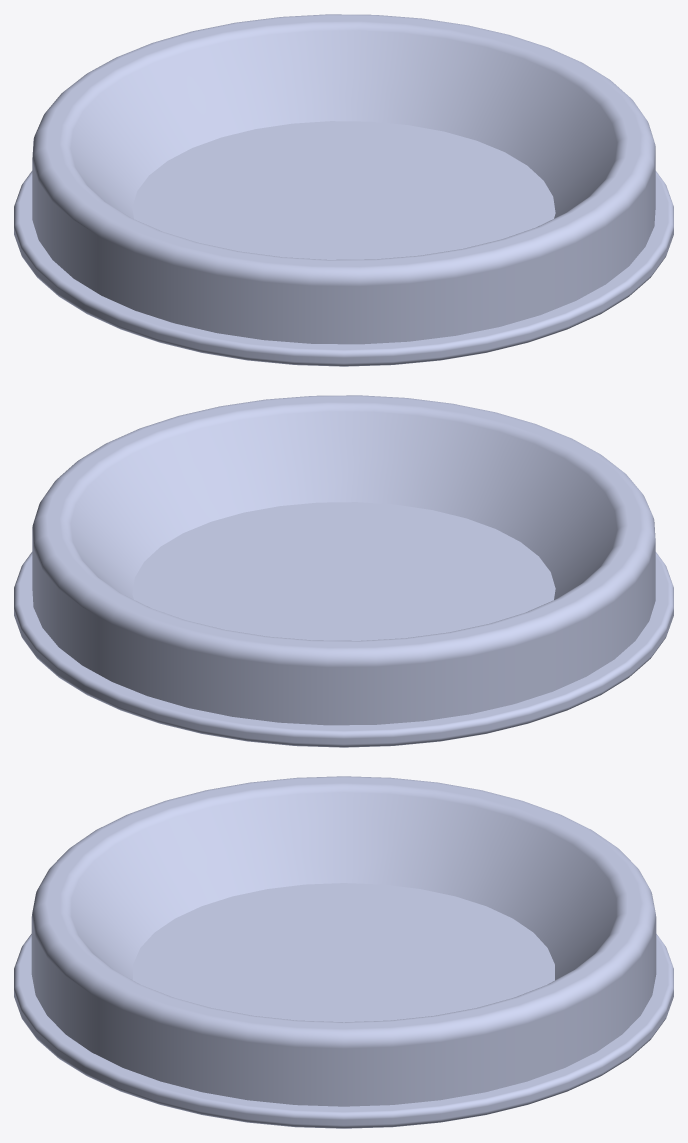
The model's file is 63_tapa_metal.glb.
3 renders of one model, top to bottom at view 1: azimuth 30°, elevation 25°; view 2: azimuth 150°, elevation 25°; view 3: azimuth 270°, elevation 25°, orthographic.
Visible parts, largest first — view 1: TAPA METALICA 63; view 2: TAPA METALICA 63; view 3: TAPA METALICA 63.
Boxes of the visible parts, <box> form: TAPA METALICA 63: <box>14,14,673,366</box>; TAPA METALICA 63: <box>14,395,673,747</box>; TAPA METALICA 63: <box>14,776,673,1128</box>.
Size of the model in its own units: 0.0672 by 0.0098 by 0.067.
